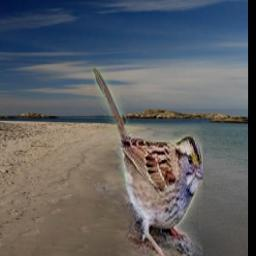Sparrow: (92, 68, 204, 256)
